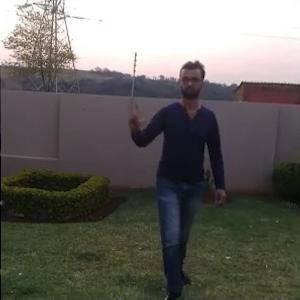land_hand: (122, 96, 146, 129)
